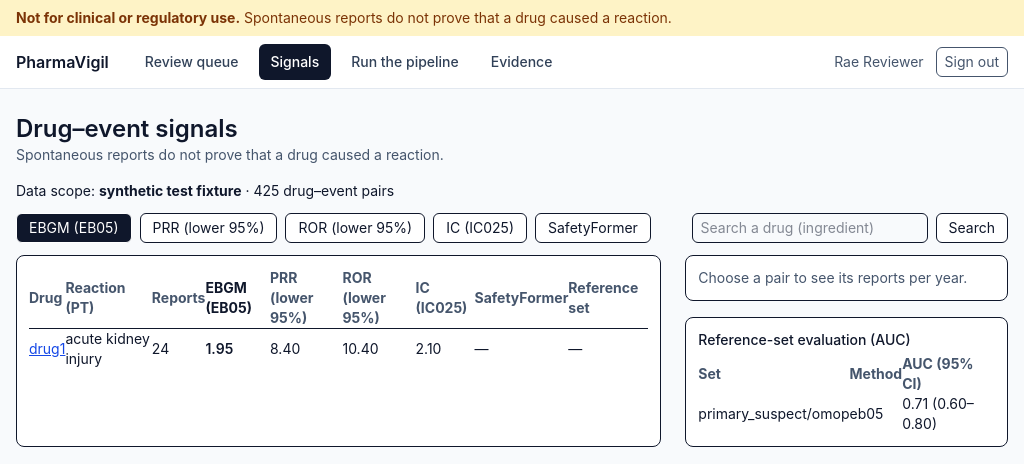
SignalsPage › ranks by EBGM first and switches method
Expected: the text "acute kidney injury" is shown, [65, 328, 152, 369]
Expected: the text "1.95" is shown, [205, 328, 270, 369]
What coordinates should you click on to do the following:
click the tab "PRR (lower 95%)"
I would click on:
 (208, 228)
Its box is [140, 213, 278, 243].
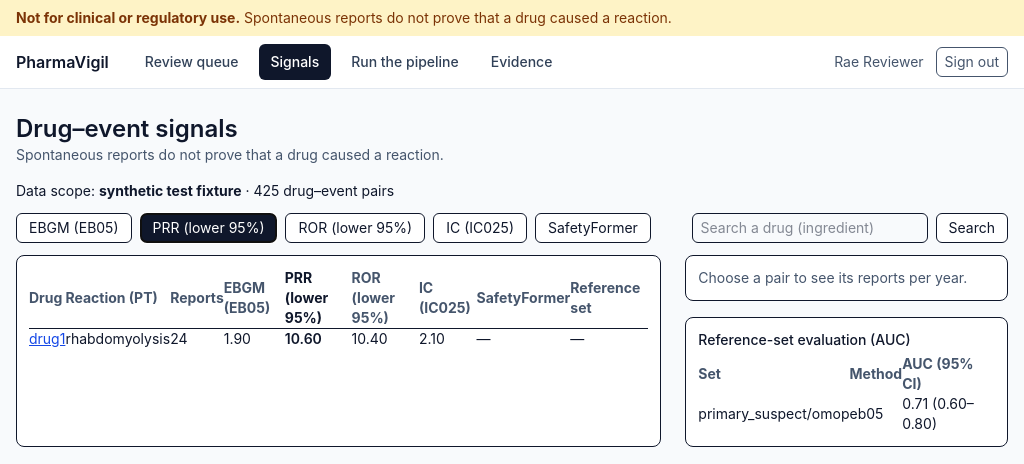
Now the text "rhabdomyolysis" is shown, box [65, 328, 170, 349]
